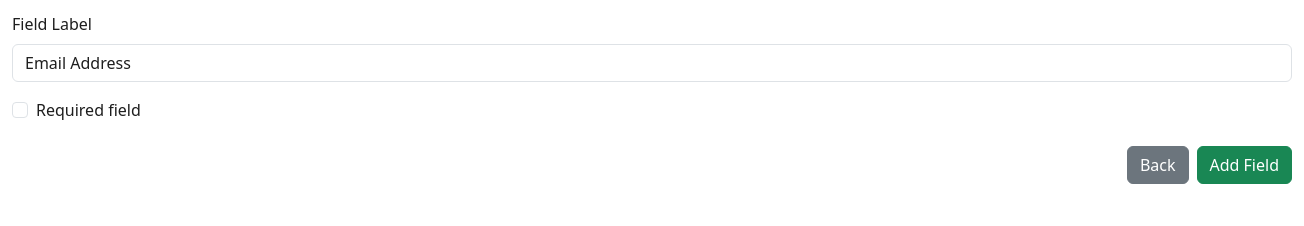
Test: SimpleFieldConfigurator › Validation error shown when label is empty
This screenshot has width=1304, height=226.
Note: Clear the label field to trigger validation error and attempt to submit the form
Clear the field showing "Email Address": (652, 63) x1=12 y1=44 x2=1292 y2=82
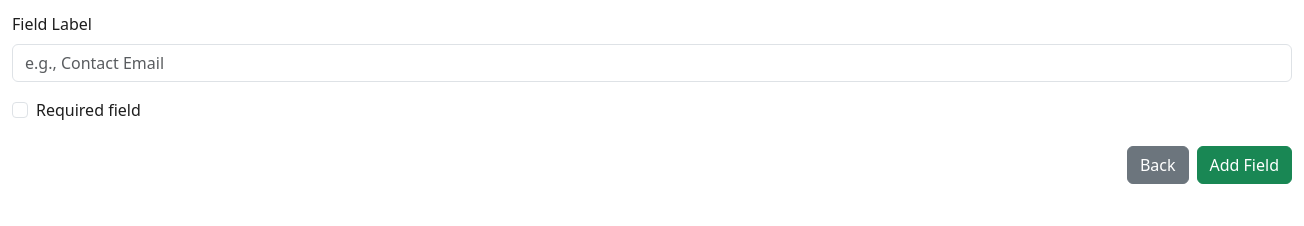
Click the button "Add Field": click(1244, 165) x1=1196 y1=146 x2=1292 y2=184
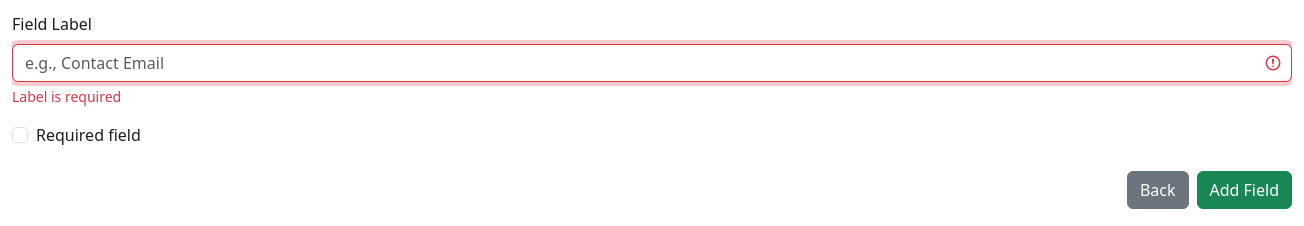
Check: the text "Label is required" is shown, box x1=12 y1=87 x2=121 y2=106
